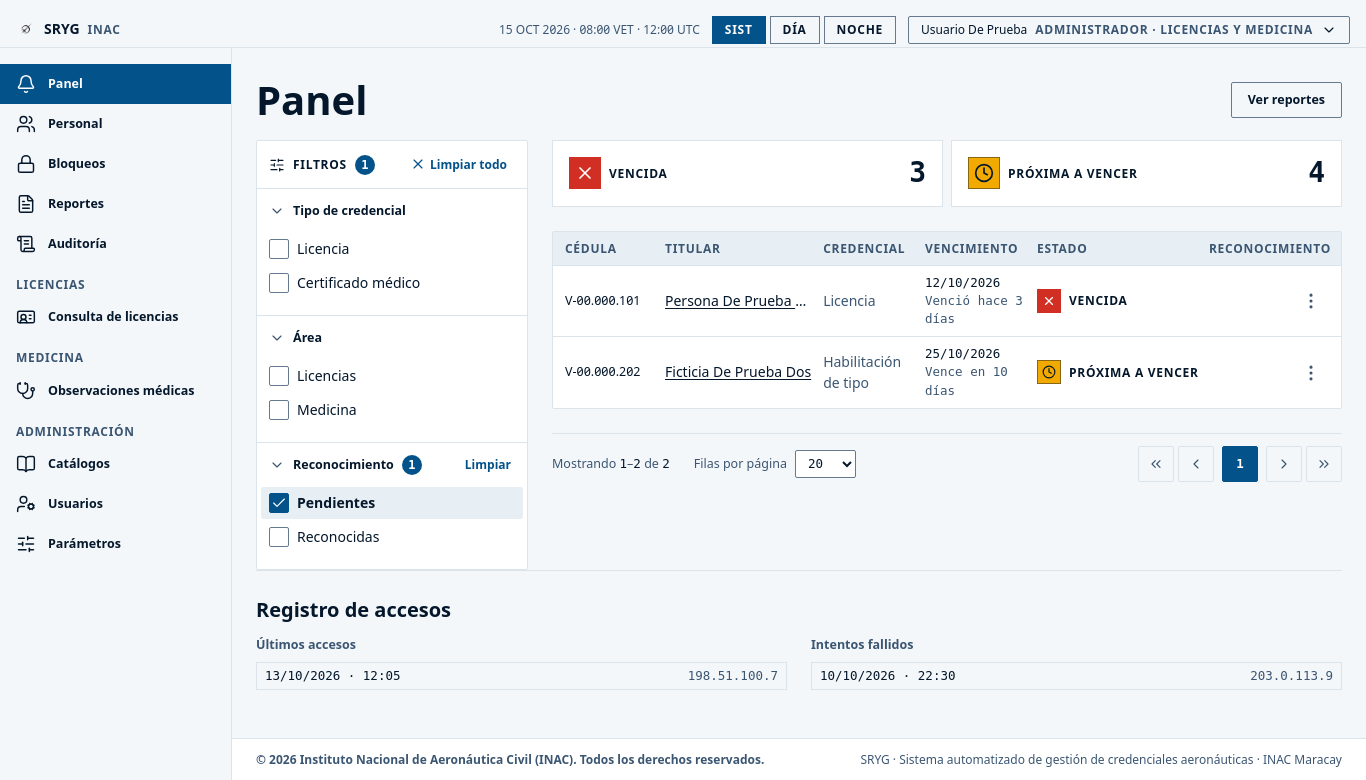
Scenario: /panel (ALR-03) › explains a 409 (already acknowledged) and reloads
Click the button named "Acciones de la alerta": (1311, 301) [1293,283,1329,319]
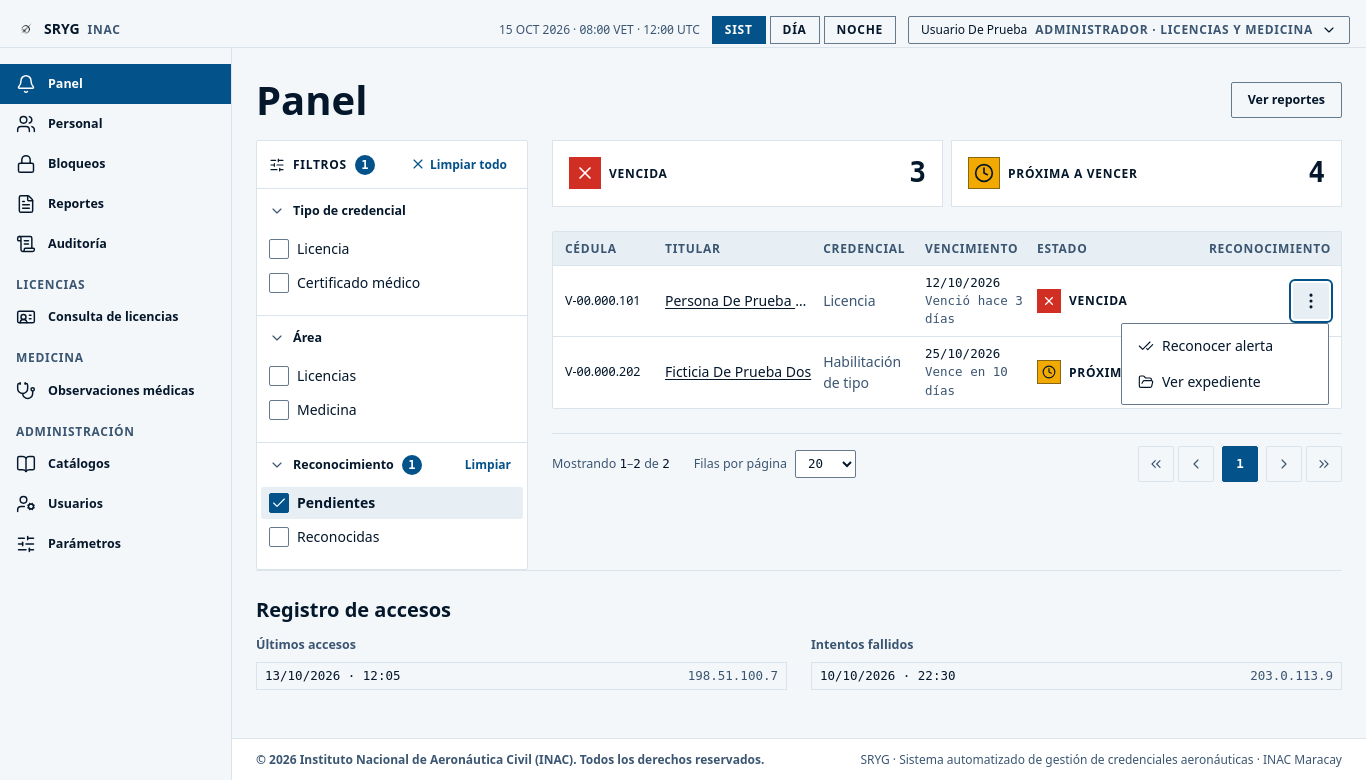
Click the menu item "Reconocer alerta": (1225, 346) [1122,328,1328,364]
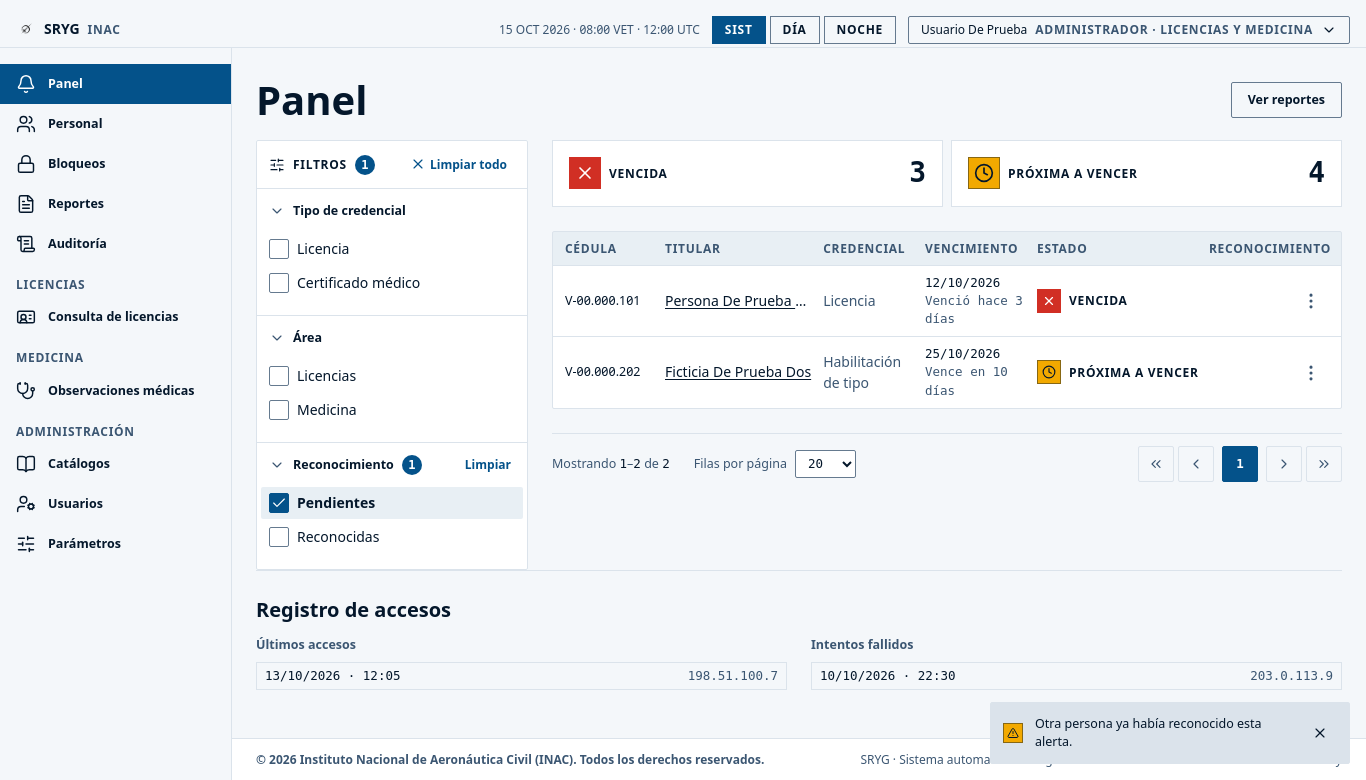
Check: the text "Otra persona ya había reconocido esta alerta." is shown, box [1035,715,1290,751]
